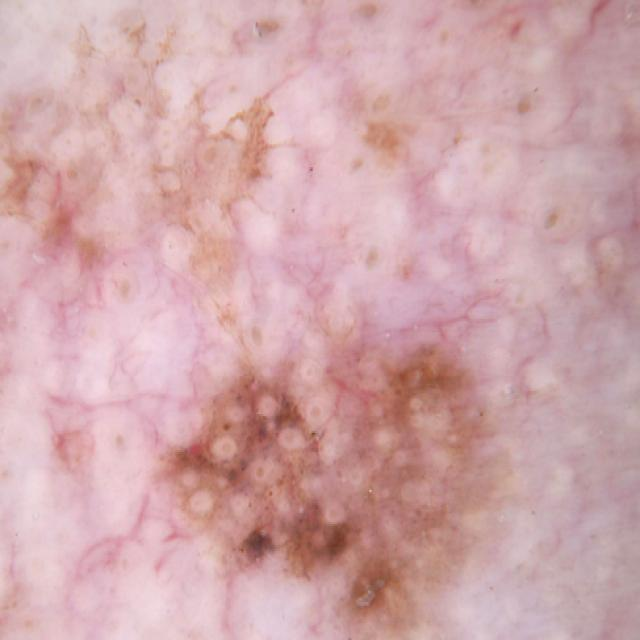Melanoma: (120, 268, 532, 640)
